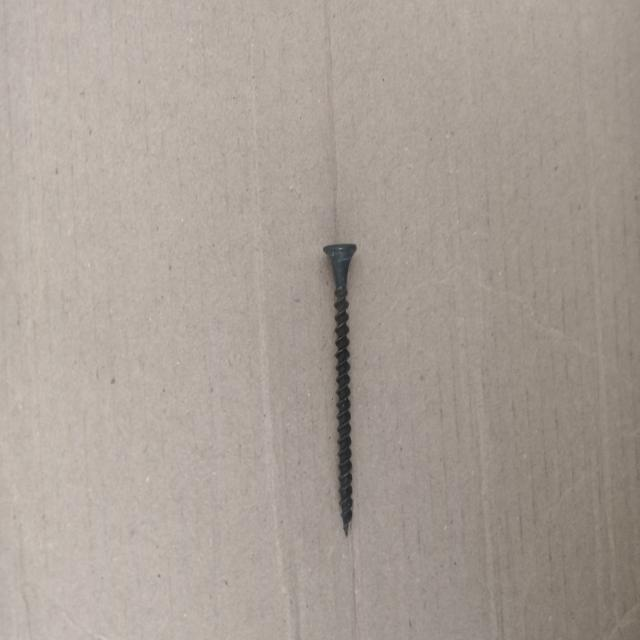screw: (323, 242, 364, 537)
